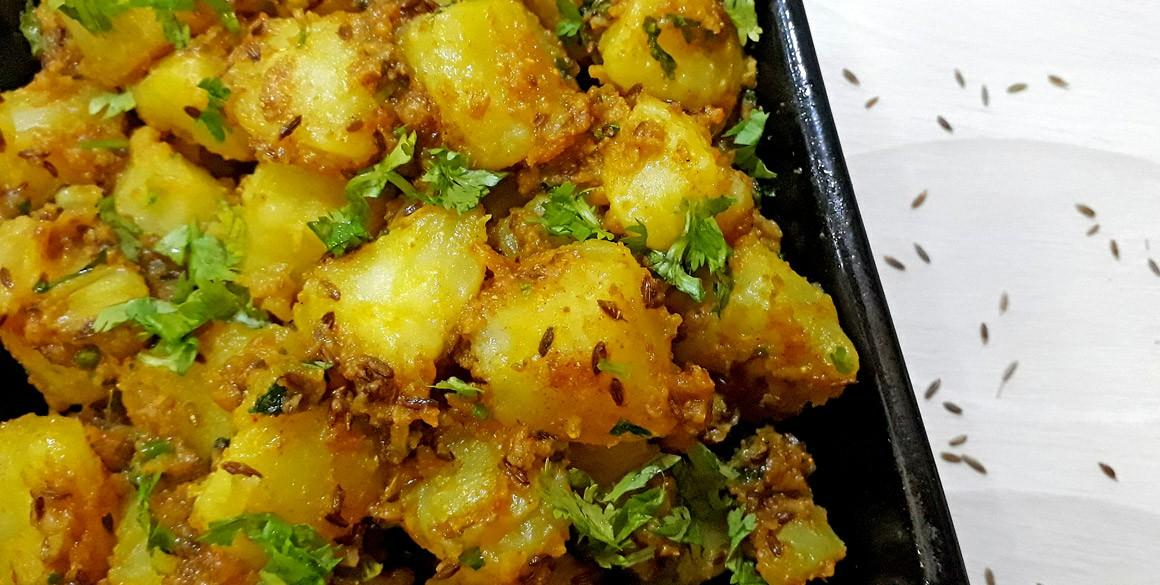AlooMasala: (0, 0, 862, 585)
